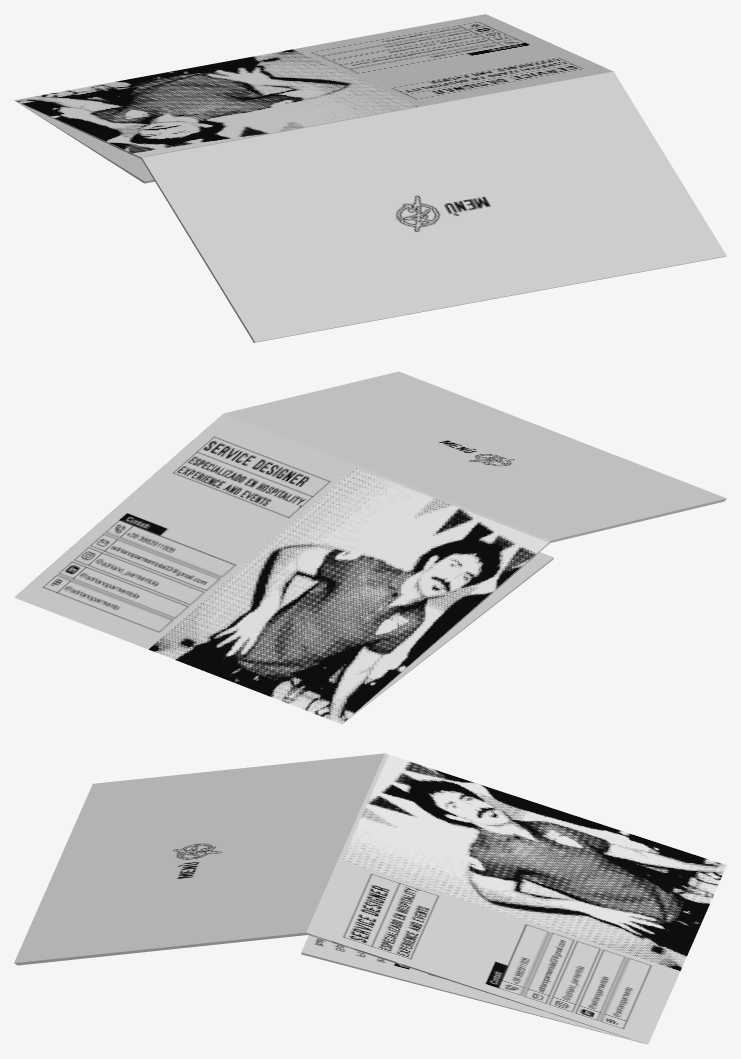
The model's file is menu.glb.
3 renders of one model, top to bottom at view 1: azimuth 30°, elevation 25°; view 2: azimuth 150°, elevation 25°; view 3: azimuth 270°, elevation 25°, orthographic. The views are drawn at different scales.
Parts seen in each view (by area): view 1: Plane; view 2: Plane; view 3: Plane.
Part boxes in pixels (left/top/right/bottom): Plane: left=14, top=14, right=726, bottom=342; Plane: left=14, top=371, right=726, bottom=724; Plane: left=14, top=753, right=726, bottom=1044.
Size of the model in its own units: 0.3772 by 0.0721 by 0.4768.
1 material, 1 textured.
